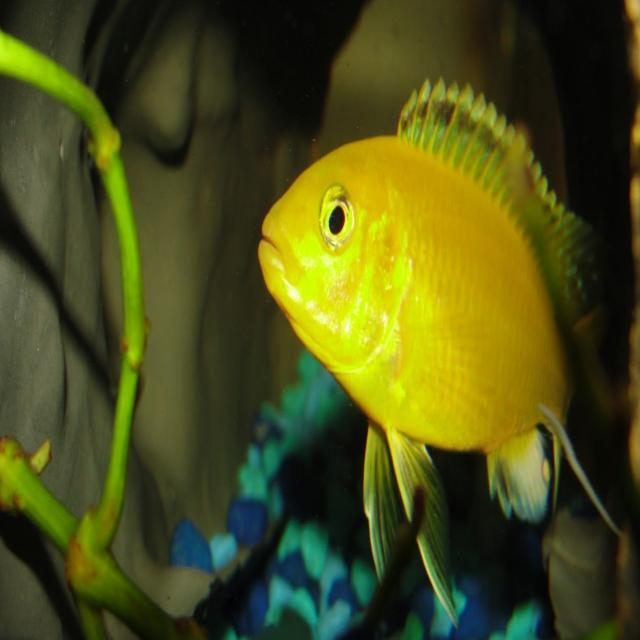YellowCichlid: (251, 64, 614, 566)
